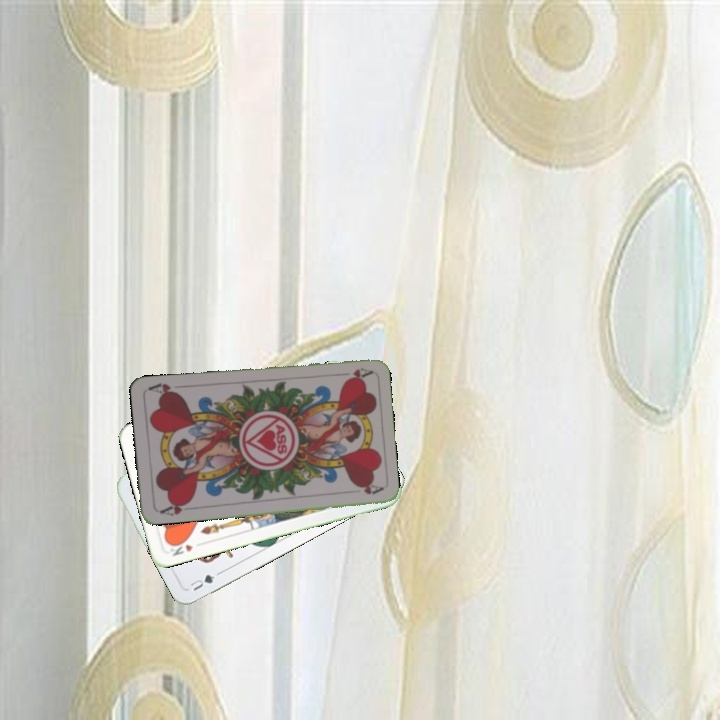GU: (186, 570, 217, 594)
HA: (156, 497, 194, 518), (333, 364, 373, 383)
HK: (163, 536, 196, 559)
